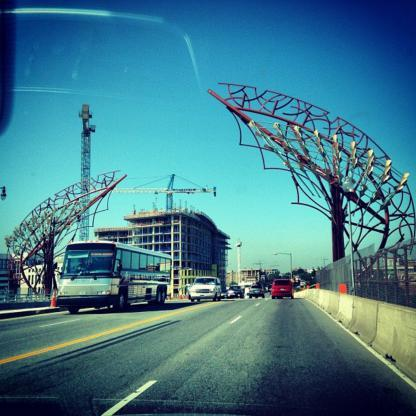car: (190, 276, 222, 300), (272, 278, 296, 298), (228, 284, 242, 298), (248, 284, 263, 296)
